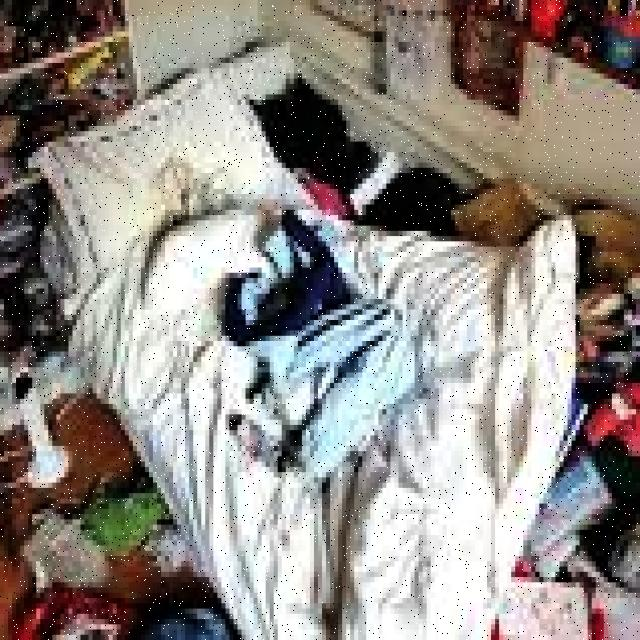bed: (54, 75, 616, 618)
